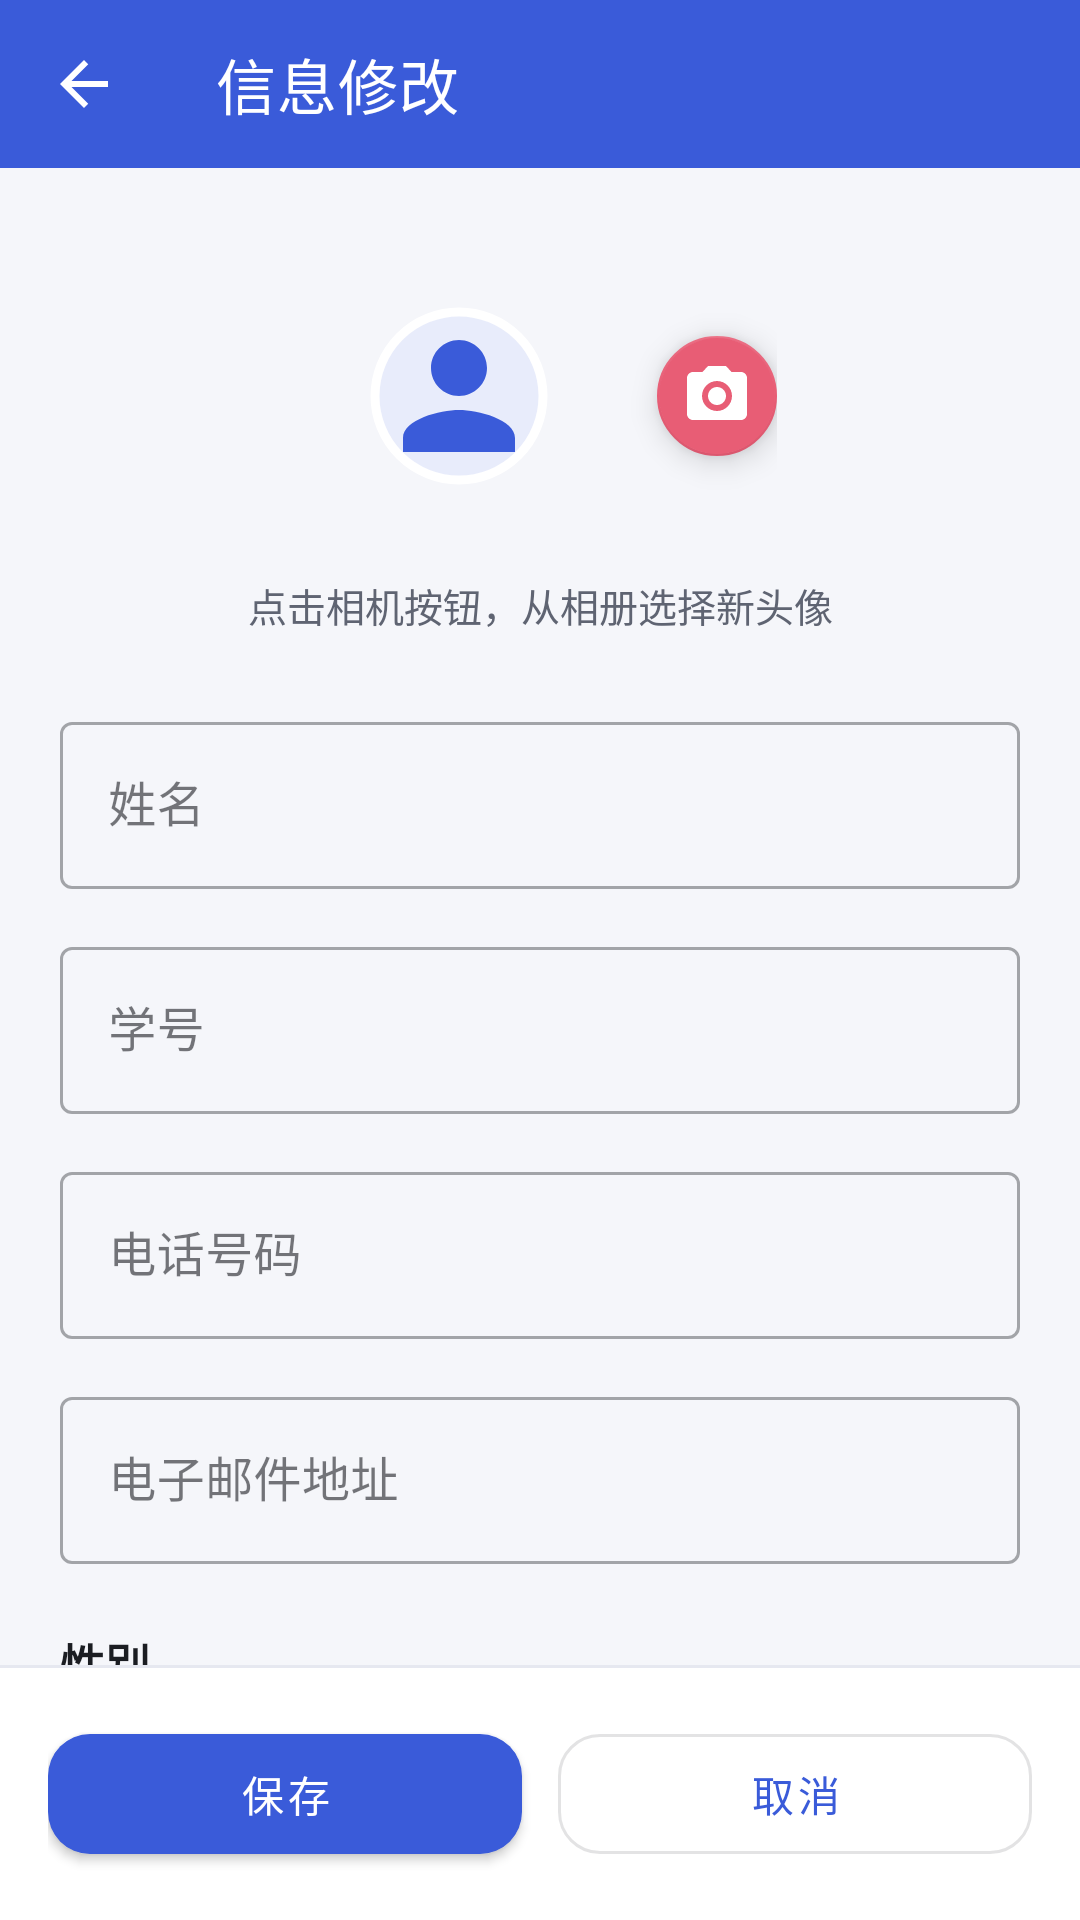

Icon click points for this 1080px×1920px phone screenshot, format (x,y):
更换头像: (717,396)
